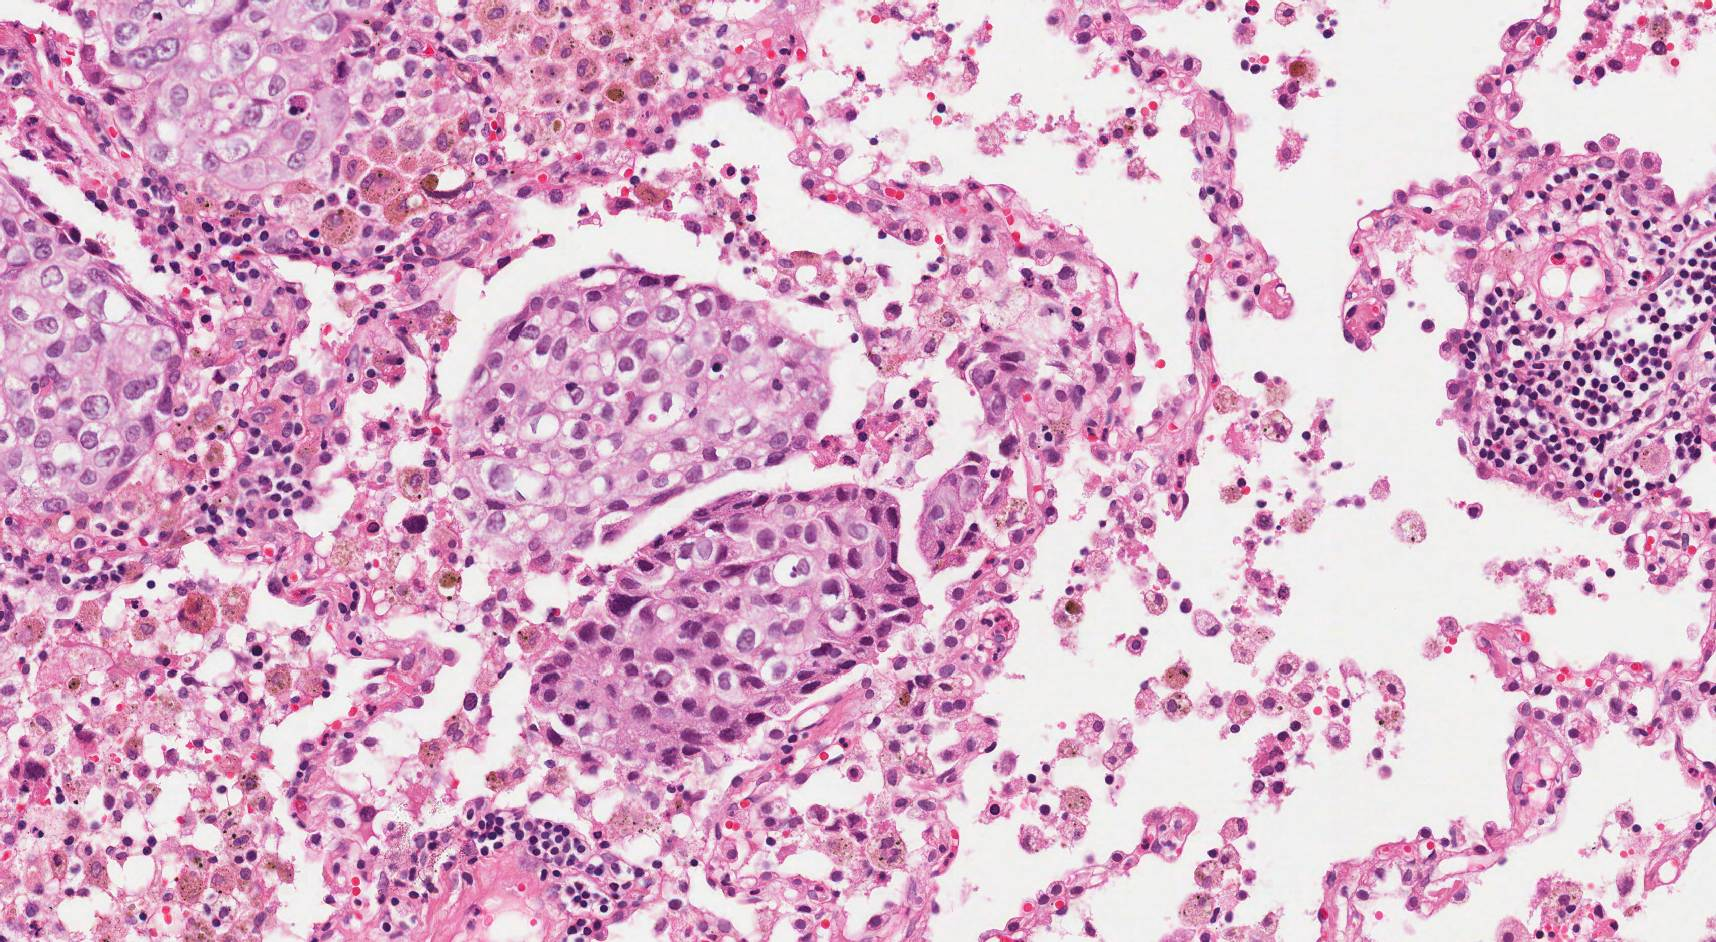stas: (528, 484, 925, 771), (450, 265, 835, 555), (920, 454, 1011, 572)
